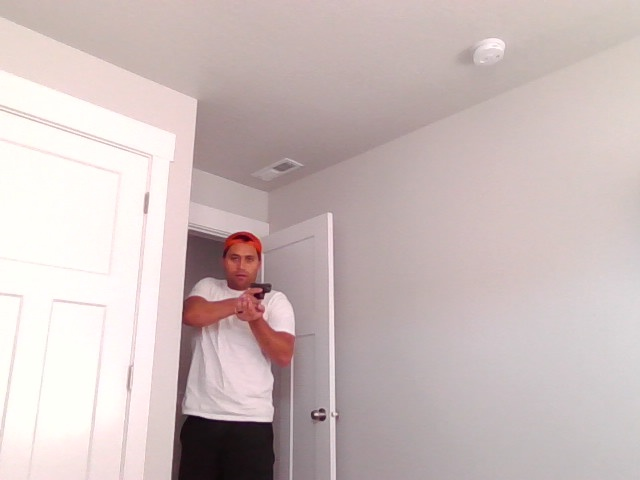handgun: (249, 282, 272, 300)
